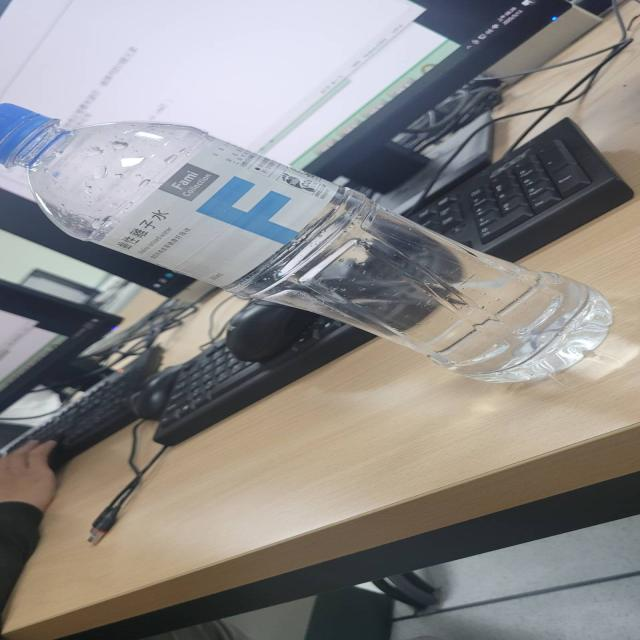PET bottle: (0, 99, 624, 383)
